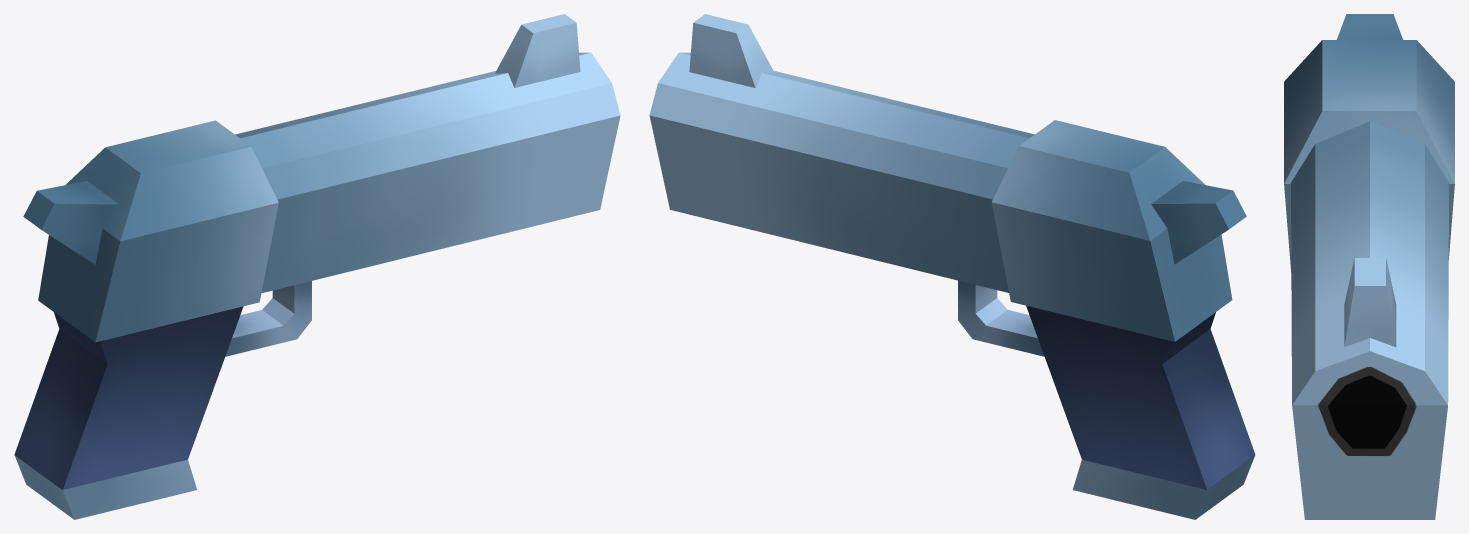
Rendered from magnum.fbx.
The picture shows the model from 3 angles, left to right: view 1: azimuth 30°, elevation 25°; view 2: azimuth 150°, elevation 25°; view 3: azimuth 270°, elevation 25°; orthographic projection. The views are drawn at different scales.
Visible parts, largest first — view 1: magnum; view 2: magnum; view 3: magnum.
Boxes of the visible parts, bbox=[...] form: magnum: bbox=[14, 14, 620, 519]; magnum: bbox=[649, 14, 1255, 519]; magnum: bbox=[1284, 14, 1454, 519].
Bounding box in the file's own units: 71.81 × 43.81 × 14.37.
